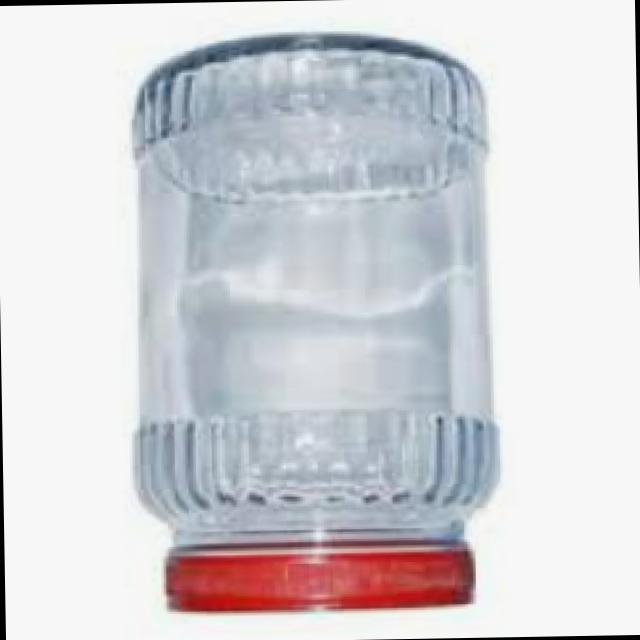ToplesKaca: (122, 31, 505, 620)
